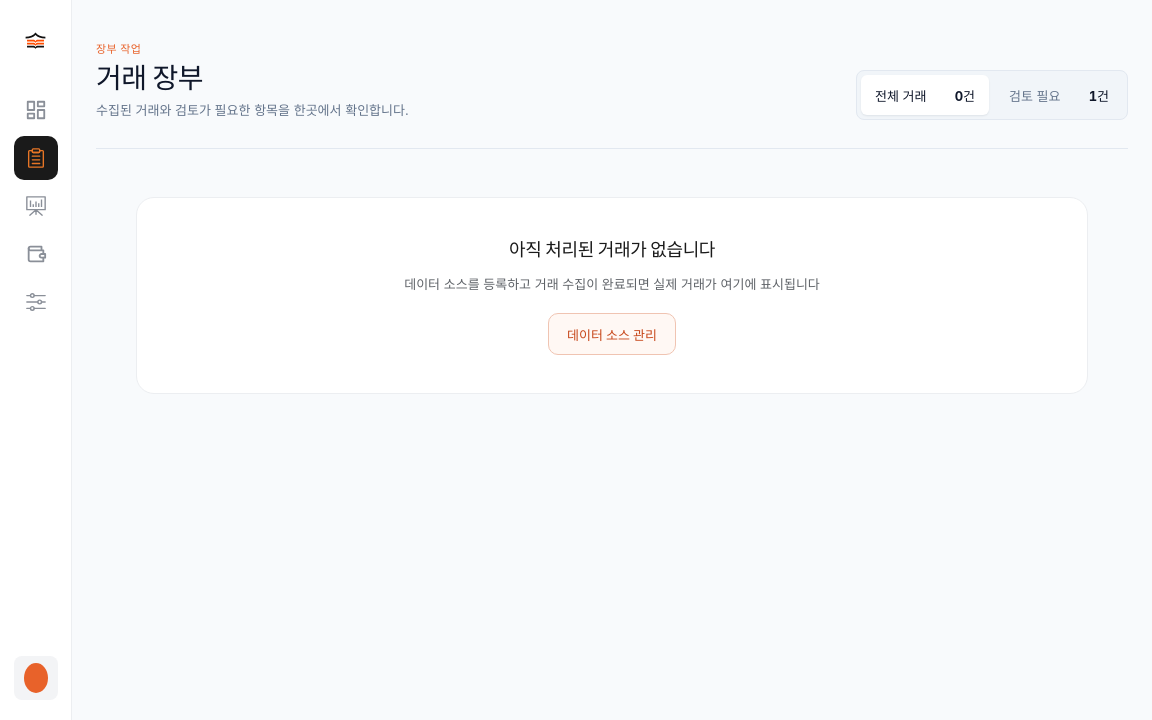
it: LedgerPage › shows an explicit review preview error instead of an indefinite loading label
Click the button "검토 필요 1건" at (1059, 95), box left=995, top=75, right=1123, bottom=115
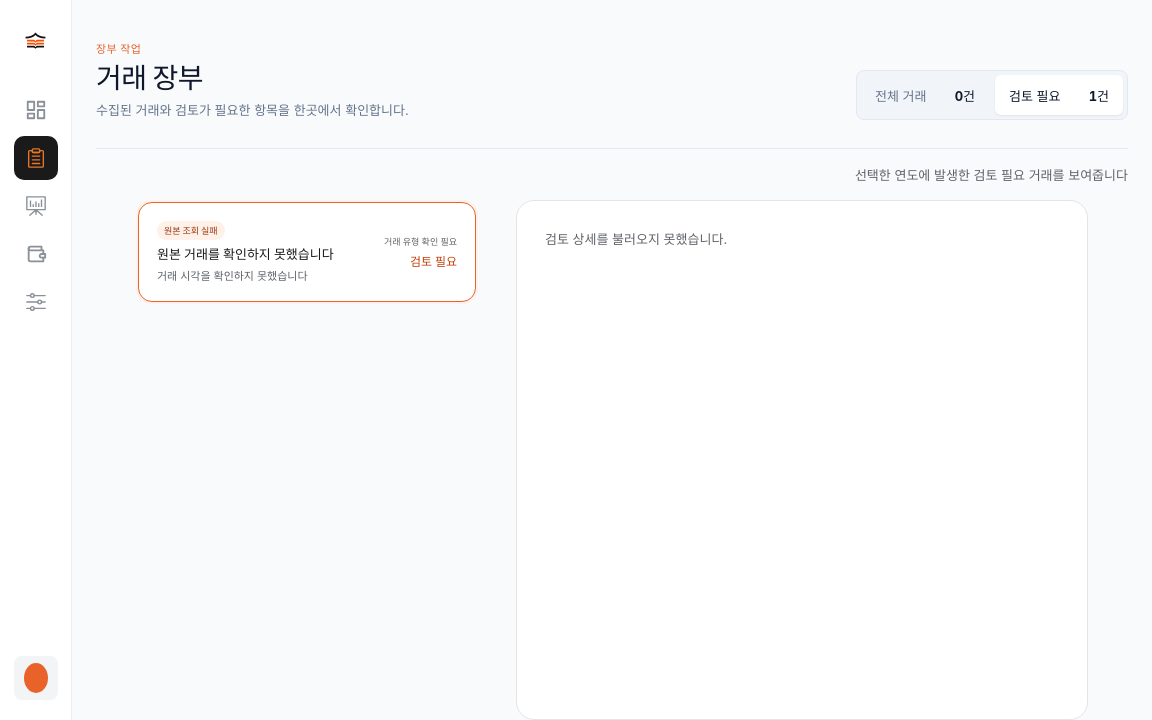
Expected: the text "원본 거래를 확인하지 못했습니다" is shown, left=157, top=244, right=334, bottom=263
Expected: the text "원본 조회 실패" is shown, left=157, top=221, right=225, bottom=240
